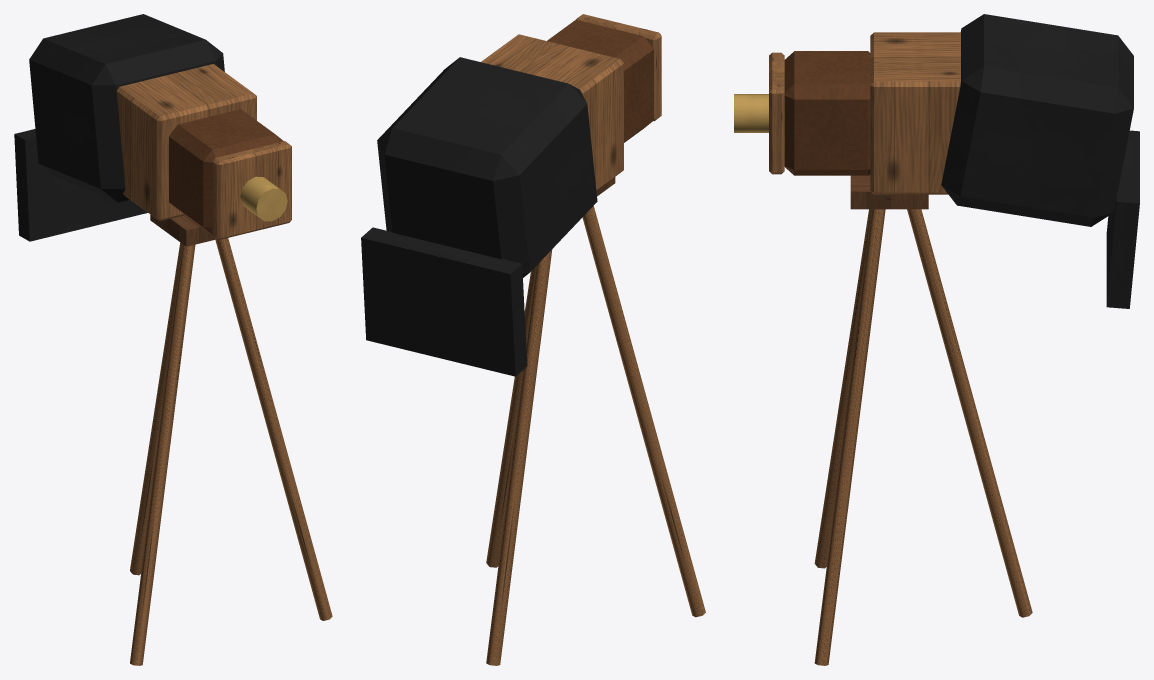
File: OB_Aparat_Studyjny.fbx
3 renders of one model, left to right at view 1: azimuth 30°, elevation 25°; view 2: azimuth 150°, elevation 25°; view 3: azimuth 270°, elevation 25°, orthographic. The views are drawn at different scales.
Visible parts, largest first — view 1: Aparat; view 2: Aparat; view 3: Aparat.
Boxes of the visible parts, bbox=[...] form: Aparat: bbox=[14, 14, 332, 665]; Aparat: bbox=[361, 14, 705, 665]; Aparat: bbox=[734, 14, 1139, 665].
Size of the model in its own units: 0.6369 by 1.63 by 1.04.
